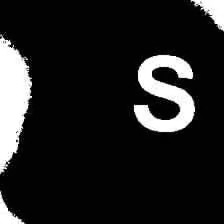LTR_S: (130, 49, 198, 133)
